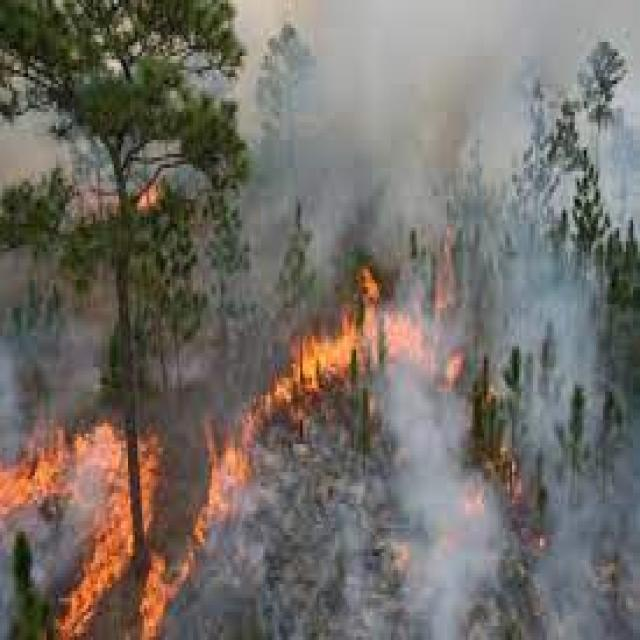Fire: (192, 284, 482, 420), (0, 419, 121, 639), (186, 436, 264, 544), (464, 445, 530, 556), (136, 556, 199, 640)
Smoke: (151, 440, 640, 640), (495, 267, 635, 640), (294, 16, 456, 220), (352, 439, 475, 639), (372, 0, 522, 151), (514, 262, 604, 436)
